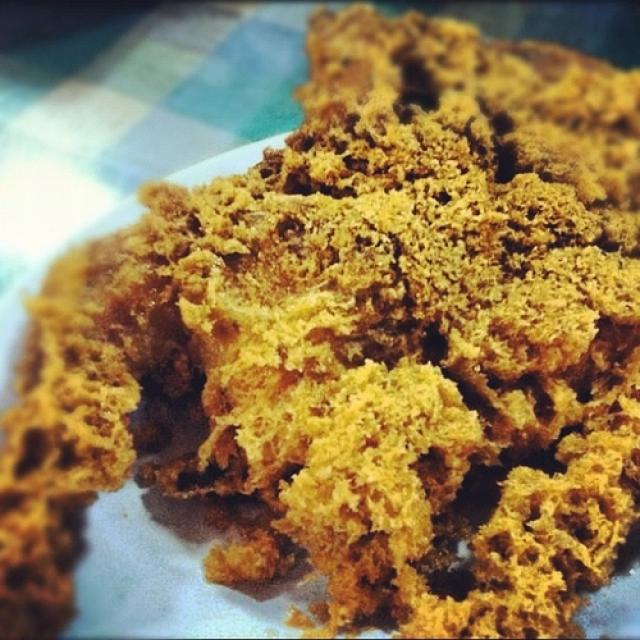鸡肉料理 含炸鸡: (19, 15, 630, 631)
